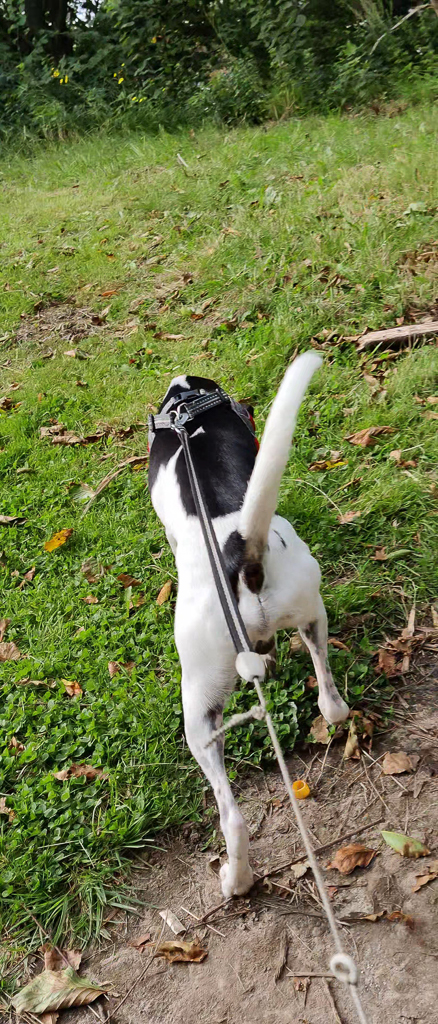Dog: (124, 333, 396, 915)
